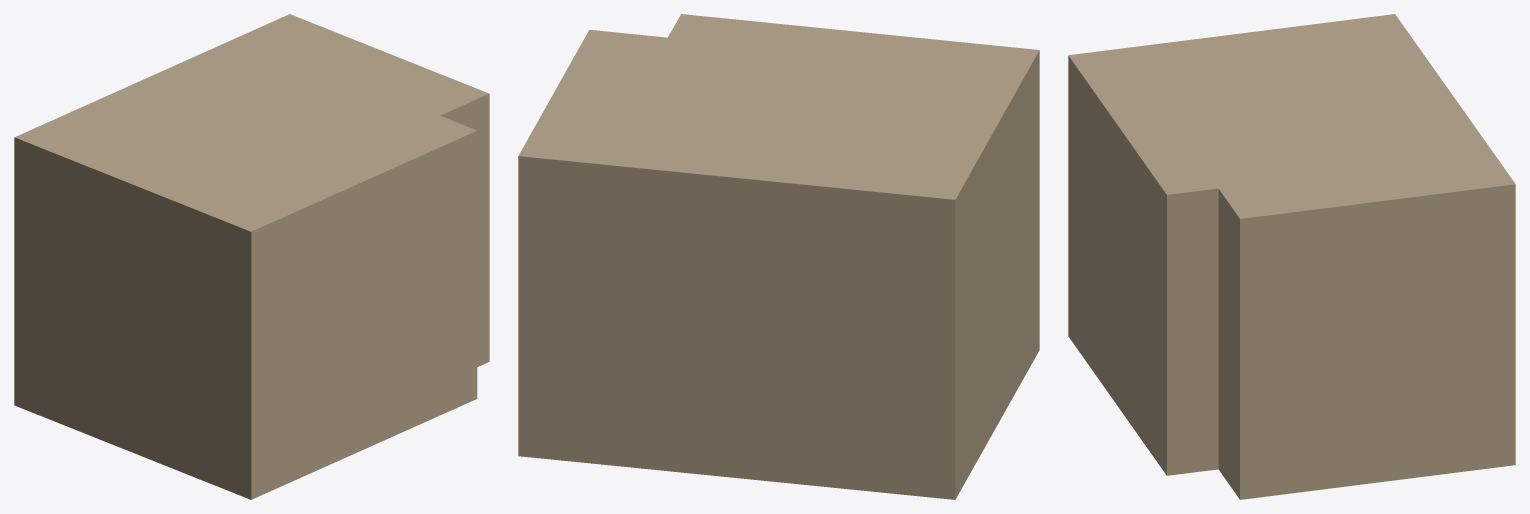
Rendered from bld_106796686.dae.
3 renders of one model, left to right at view 1: azimuth 30°, elevation 25°; view 2: azimuth 150°, elevation 25°; view 3: azimuth 270°, elevation 25°, orthographic. The views are drawn at different scales.
Visible parts, largest first — view 1: bld_106796686; view 2: bld_106796686; view 3: bld_106796686.
Part boxes in pixels (x1,y1,x2,y2): bld_106796686: (14, 14, 489, 499); bld_106796686: (518, 14, 1039, 499); bld_106796686: (1068, 14, 1515, 499).
Bounding box in the file's own units: 12.52 × 11.55 × 8.
